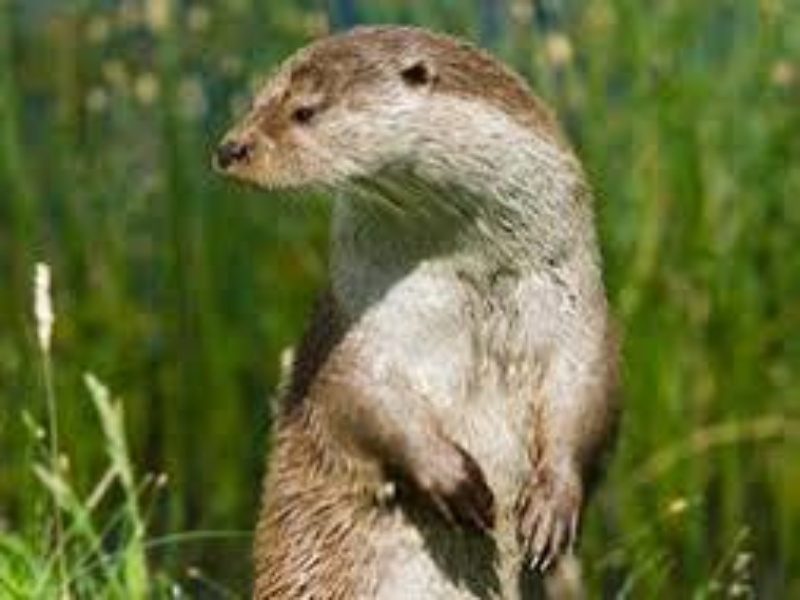minkish: (207, 18, 635, 600)
